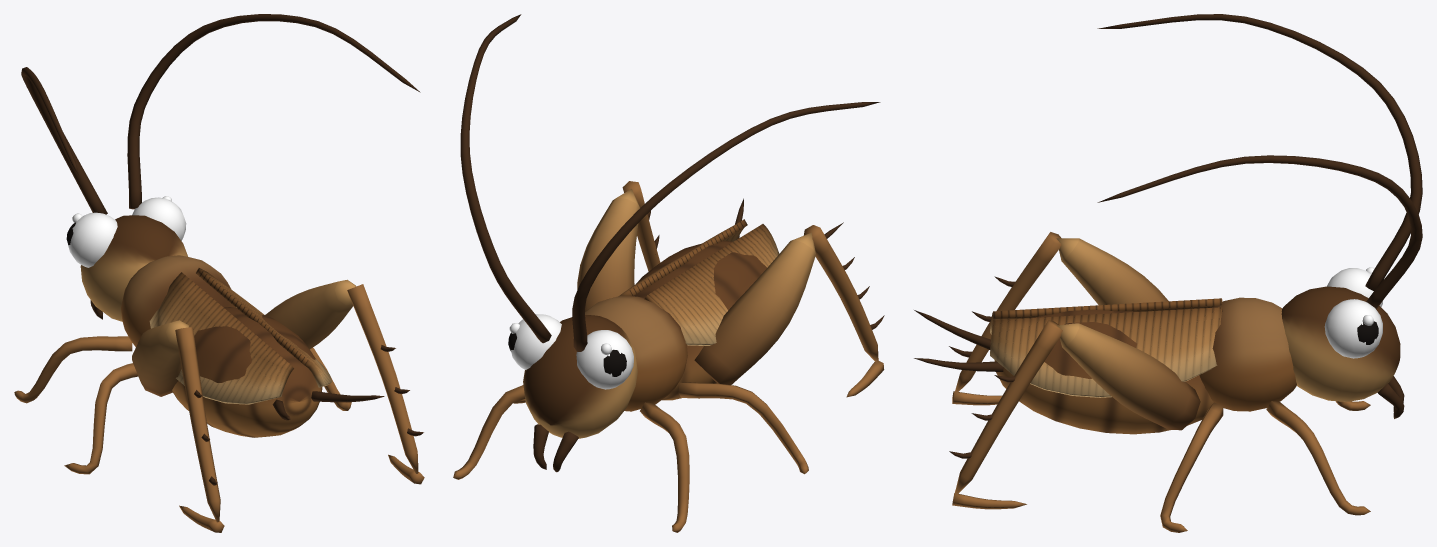
The model's file is Cricket.glb.
3 views of the same model, side by side, from view 1: azimuth 30°, elevation 25°; view 2: azimuth 150°, elevation 25°; view 3: azimuth 270°, elevation 25° (orthographic). The views are drawn at different scales.
Parts seen in each view (by area): view 1: Cricket; view 2: Cricket; view 3: Cricket.
Boxes of the visible parts, x1,y1,x2,y2 form: Cricket: (14,14,424,532); Cricket: (453,14,884,532); Cricket: (914,14,1422,532).
Bounding box in the file's own units: 0.792 × 0.7993 × 0.9793.
1 material, 1 textured.
